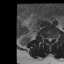CCS_stenosis: (49, 36, 50, 45)
LFS_stenosis: (52, 36, 55, 41)
LLS_normal: (50, 35, 52, 42)
RFS_stenosis: (44, 35, 47, 41)
RLS_normal: (47, 35, 49, 42)
